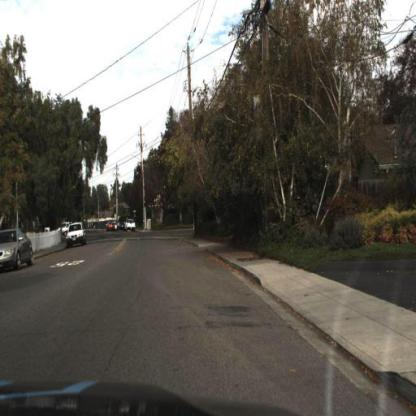car: (0, 226, 35, 273), (63, 217, 85, 249), (124, 216, 136, 235)
